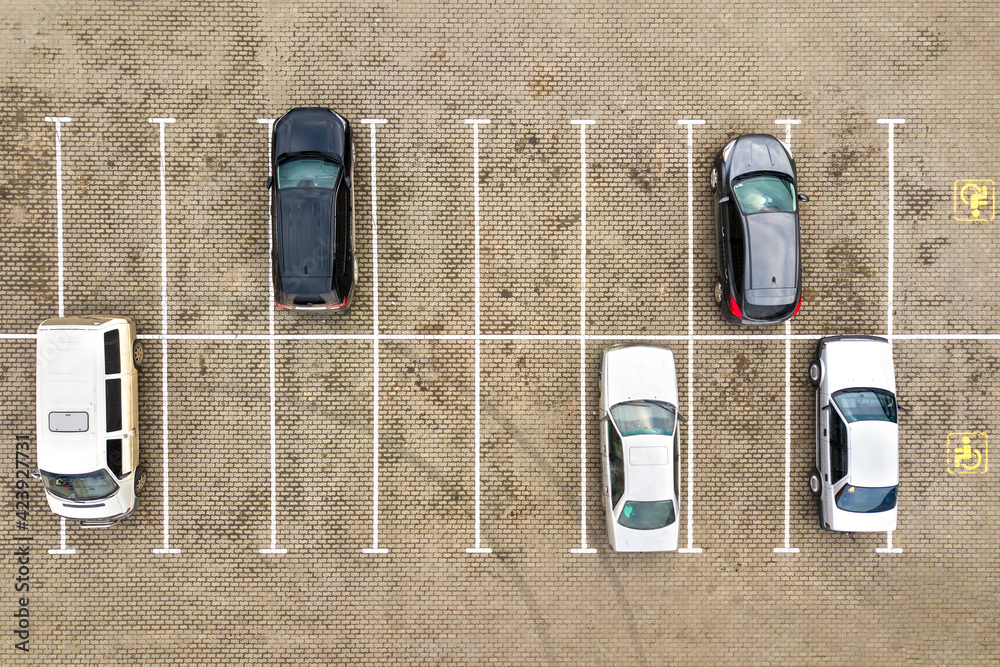bos: (37, 332, 170, 552), (579, 334, 695, 556), (267, 119, 382, 339), (783, 337, 898, 554), (687, 124, 795, 339)
dolu: (472, 123, 590, 340), (578, 119, 693, 341), (53, 119, 170, 335), (887, 119, 1000, 341), (885, 336, 1000, 554), (162, 337, 277, 552), (474, 335, 587, 552), (269, 335, 380, 554), (787, 121, 897, 340), (163, 122, 274, 339), (372, 335, 483, 552), (374, 119, 483, 339), (688, 336, 793, 551)
